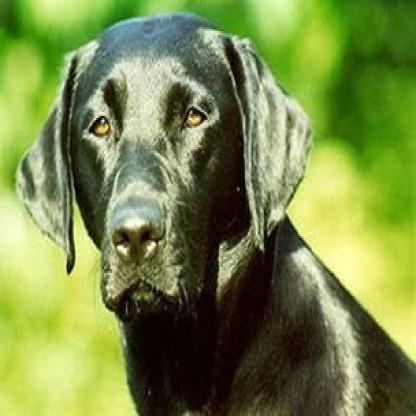Labarador Retriever: (12, 13, 415, 416)
